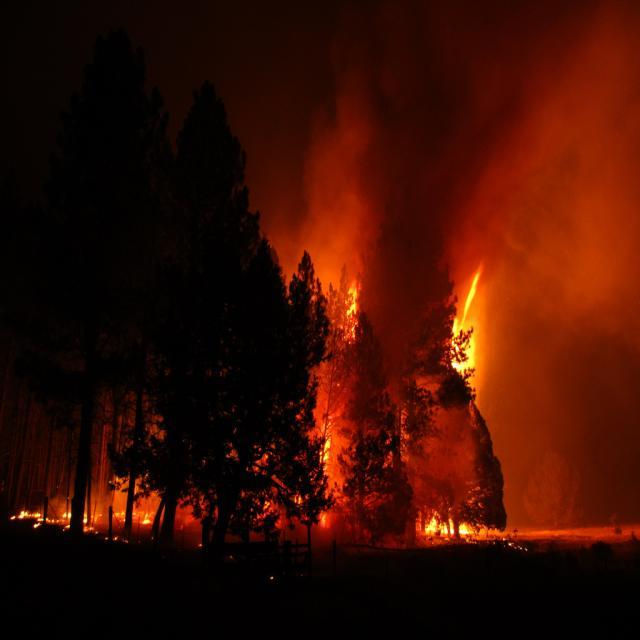Fire: (458, 288, 488, 378)
